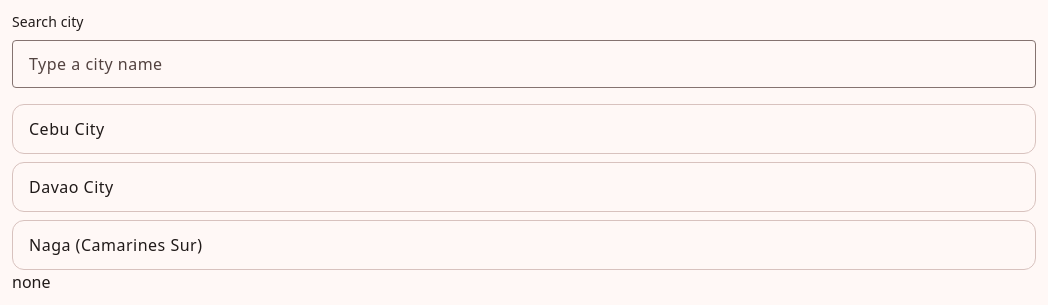
Test: CityPicker › filters case-insensitively, so typing lowercase still finds a city
Expected: the radio button labelled "Cebu City" is shown, [12,104,1036,154]
Type "davao" into the field labelled "Search city" at (524,64), box [12,40,1036,88]
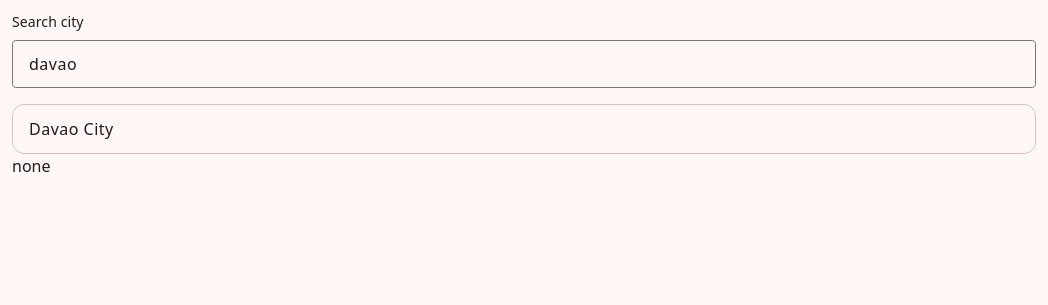
Now the number of radio buttons is 1, box [12,104,1036,154]
